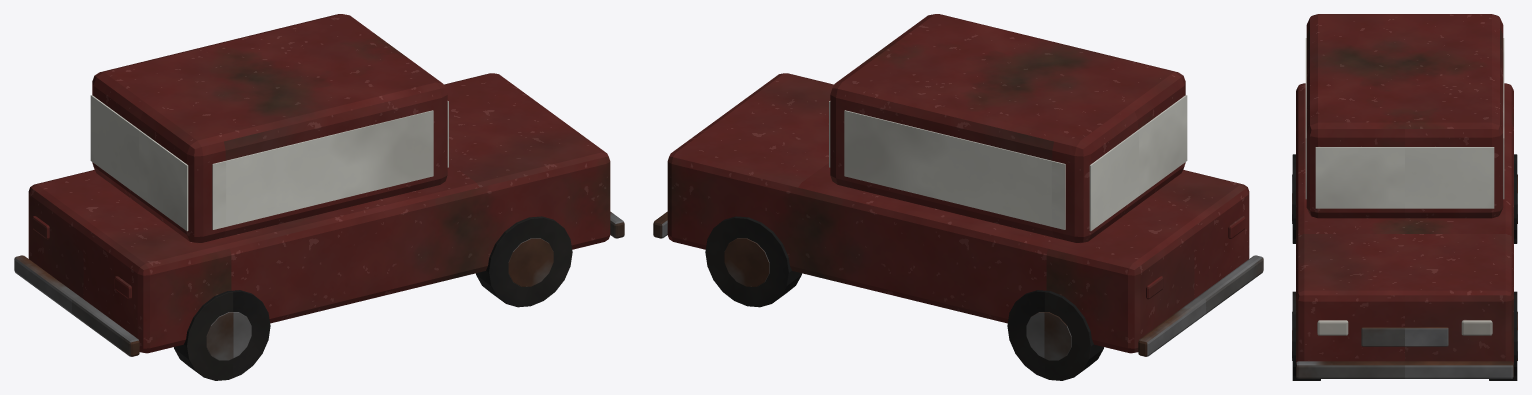
Rendered from CV02_small_hatchback_v1.glb.
3 renders of one model, left to right at view 1: azimuth 30°, elevation 25°; view 2: azimuth 150°, elevation 25°; view 3: azimuth 270°, elevation 25°, orthographic. The views are drawn at different scales.
Parts seen in each view (by area): view 1: CV02_small_hatchback_v1; view 2: CV02_small_hatchback_v1; view 3: CV02_small_hatchback_v1.
Part boxes in pixels (x1,y1,x2,y2): CV02_small_hatchback_v1: [14, 14, 624, 380]; CV02_small_hatchback_v1: [653, 14, 1263, 380]; CV02_small_hatchback_v1: [1292, 14, 1517, 380].
Size of the model in its own units: 3.6 by 1.62 by 1.53.
Materials: 6 (6 with a texture image).
